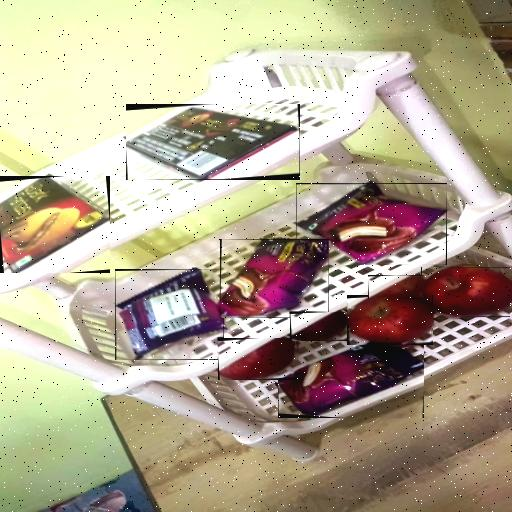Apple: (421, 267, 510, 317), (347, 295, 433, 345), (218, 338, 297, 380), (290, 312, 347, 341), (368, 275, 424, 299)
Choco Fills: (126, 104, 300, 180), (0, 176, 110, 273)
Choco Pie: (296, 183, 447, 265), (278, 340, 424, 418), (115, 269, 224, 360), (220, 239, 329, 318)
